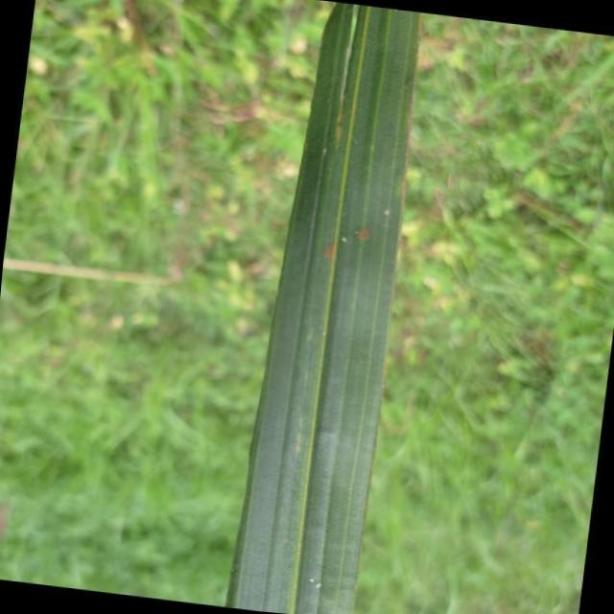Boron: (225, 0, 424, 614)
